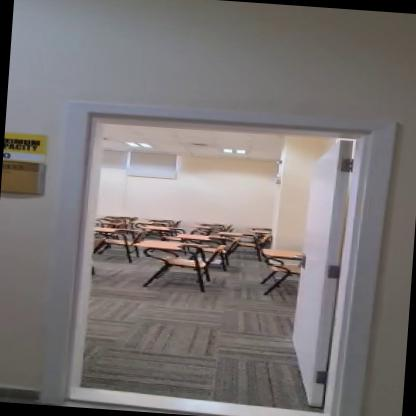open: (42, 80, 389, 415)
